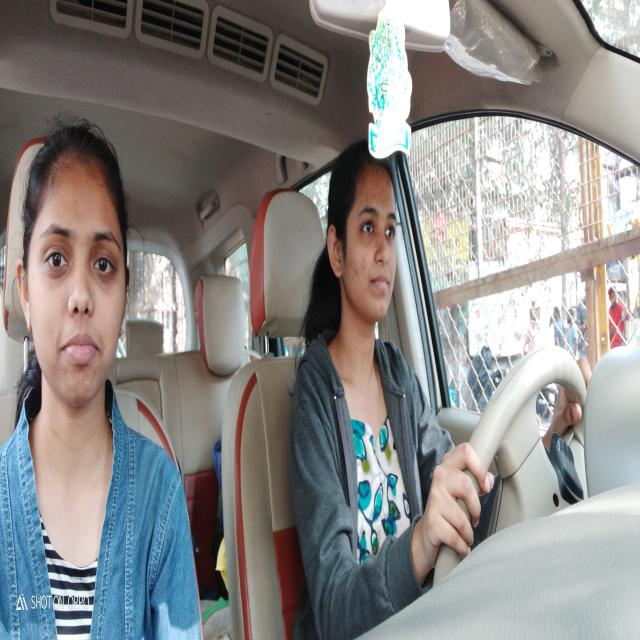person: (12, 112, 140, 423), (324, 130, 406, 337)
